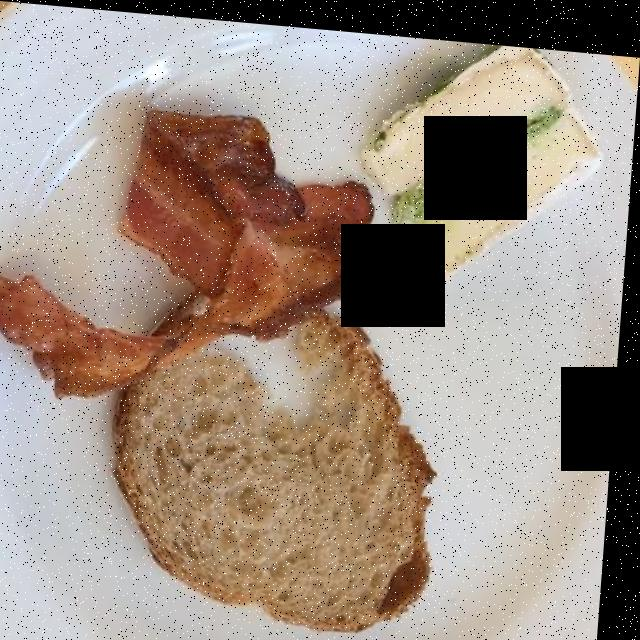bacon-frying: (0, 109, 370, 413)
bread-wholemeal: (121, 315, 431, 629)
soft-cheese: (373, 45, 600, 272)
